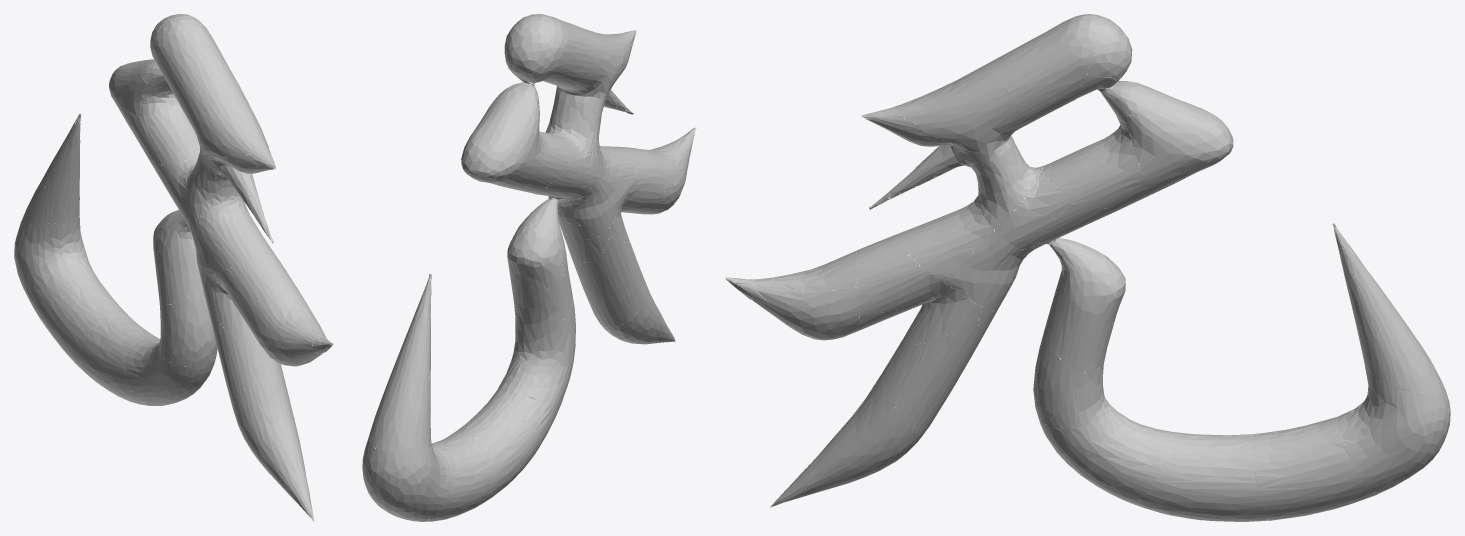
The picture shows the model from 3 angles, left to right: view 1: azimuth 30°, elevation 25°; view 2: azimuth 150°, elevation 25°; view 3: azimuth 270°, elevation 25°; orthographic projection. The views are drawn at different scales.
Parts seen in each view (by area): view 1: tripo_node_d7f73b15-2e7e-43e1-aa4a-88313136f0d4; view 2: tripo_node_d7f73b15-2e7e-43e1-aa4a-88313136f0d4; view 3: tripo_node_d7f73b15-2e7e-43e1-aa4a-88313136f0d4.
Boxes of the visible parts, left/top/right/bottom form: tripo_node_d7f73b15-2e7e-43e1-aa4a-88313136f0d4: left=14, top=14, right=332, bottom=521; tripo_node_d7f73b15-2e7e-43e1-aa4a-88313136f0d4: left=362, top=14, right=696, bottom=521; tripo_node_d7f73b15-2e7e-43e1-aa4a-88313136f0d4: left=725, top=14, right=1450, bottom=521.
Size of the model in its own units: 0.1161 by 0.7603 by 0.9995.
Materials: 1 (1 with a texture image).
